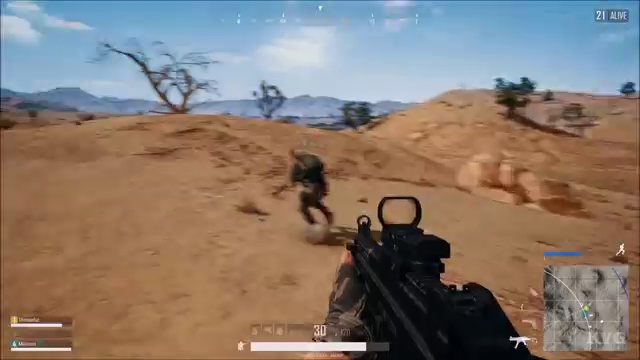Player: (266, 142, 353, 233)
